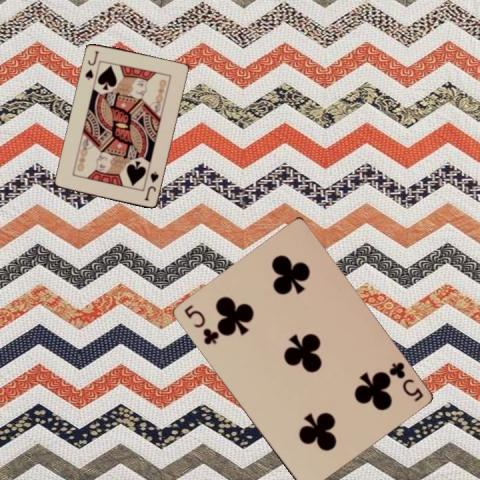5c: (180, 301, 219, 347), (385, 359, 425, 403)
Js: (141, 168, 160, 202), (82, 48, 101, 81)
